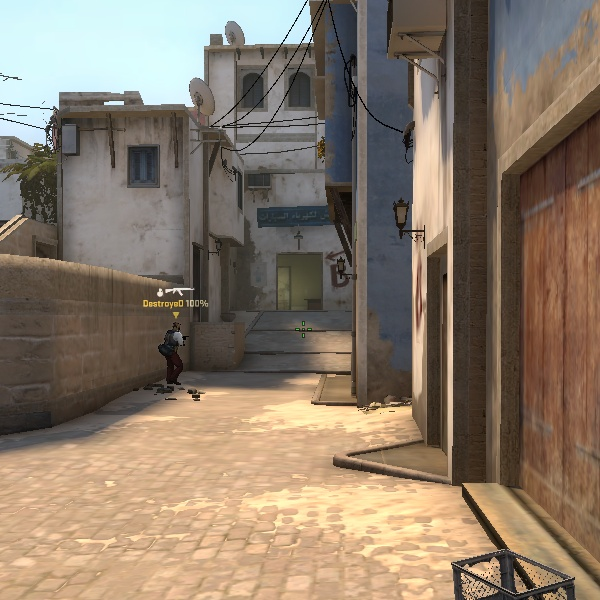t_body: (153, 318, 194, 386)
t_head: (169, 319, 184, 335)
